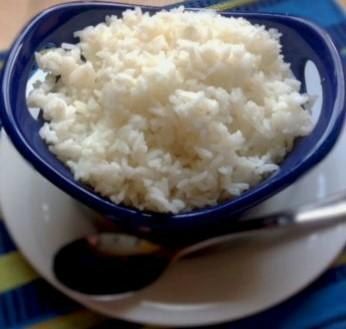WhiteRice: (26, 3, 313, 213)
